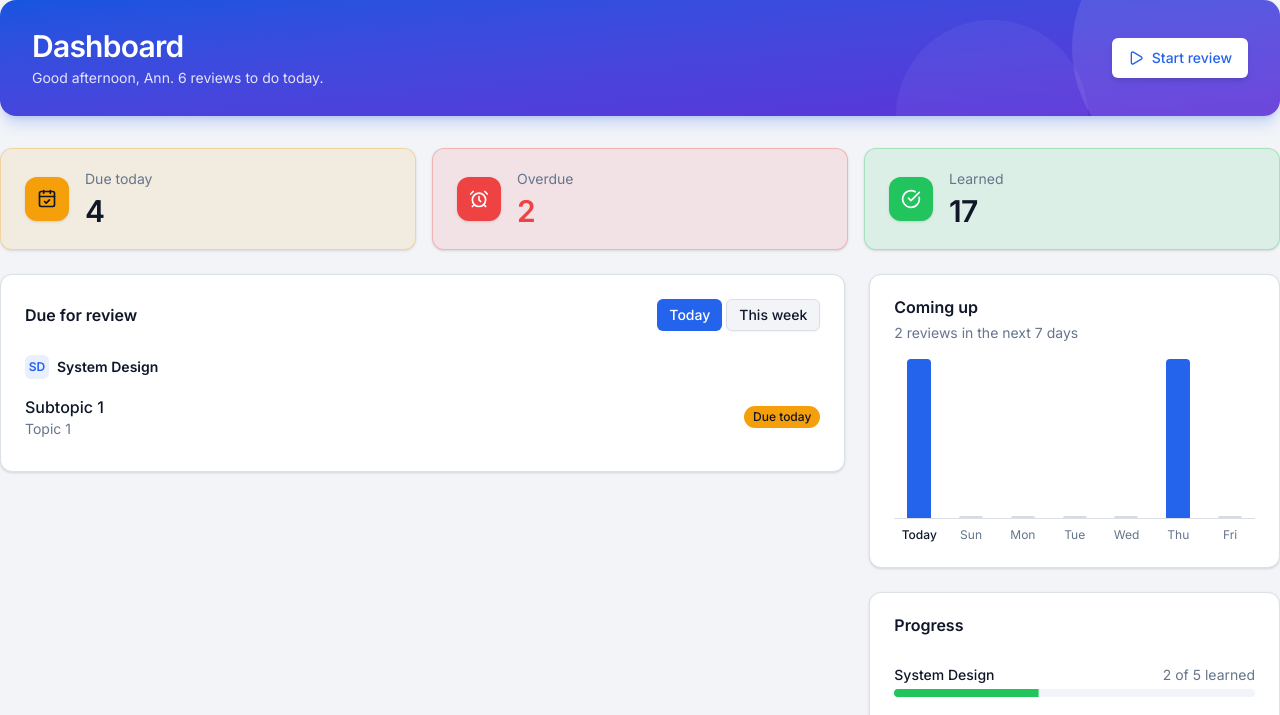
Test: due list › shows the week ahead too: later items carry their date and are not links
This screenshot has width=1280, height=715.
Expected: the link "Subtopic 1" is shown, [25, 397, 104, 417]
Step 1. Click the button "This week" → (773, 315), box [726, 299, 820, 331]
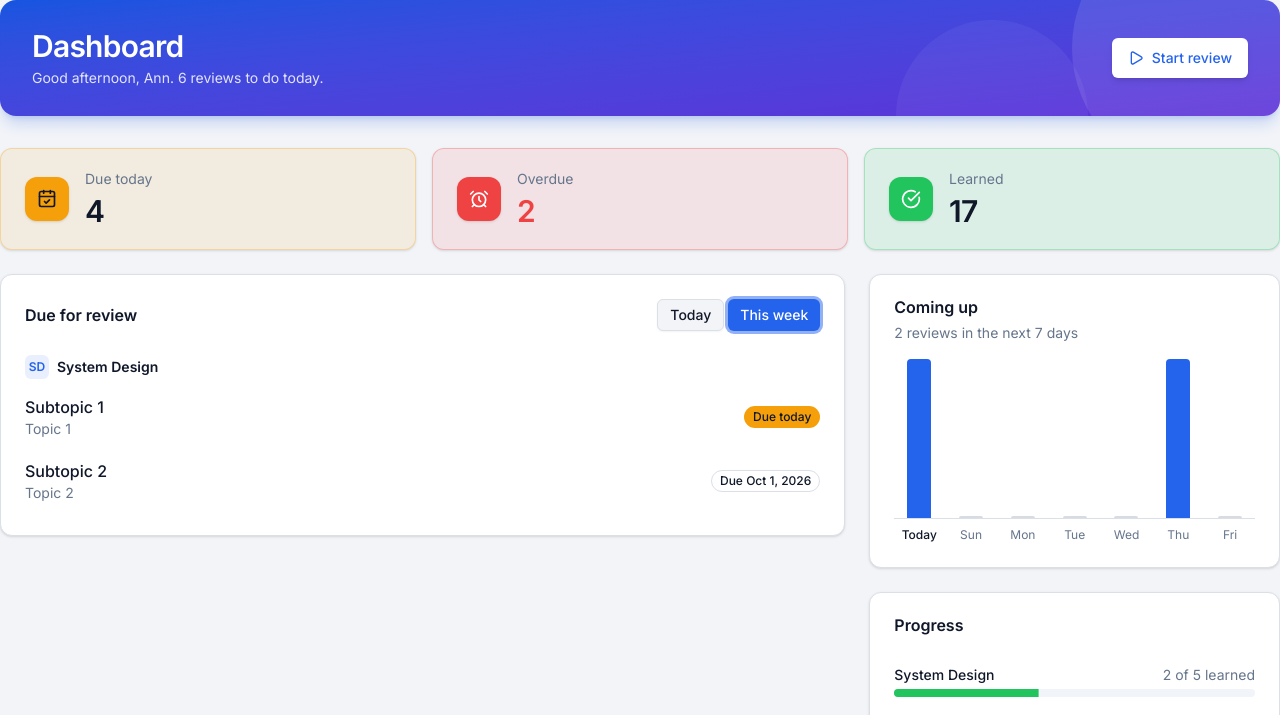
Expected: the link "Subtopic 1" is shown, [25, 397, 104, 417]
Now the text "Due Oct 1, 2026" is shown, box [711, 470, 820, 492]
Now the text "Subtopic 2" is shown, box [25, 461, 107, 481]
